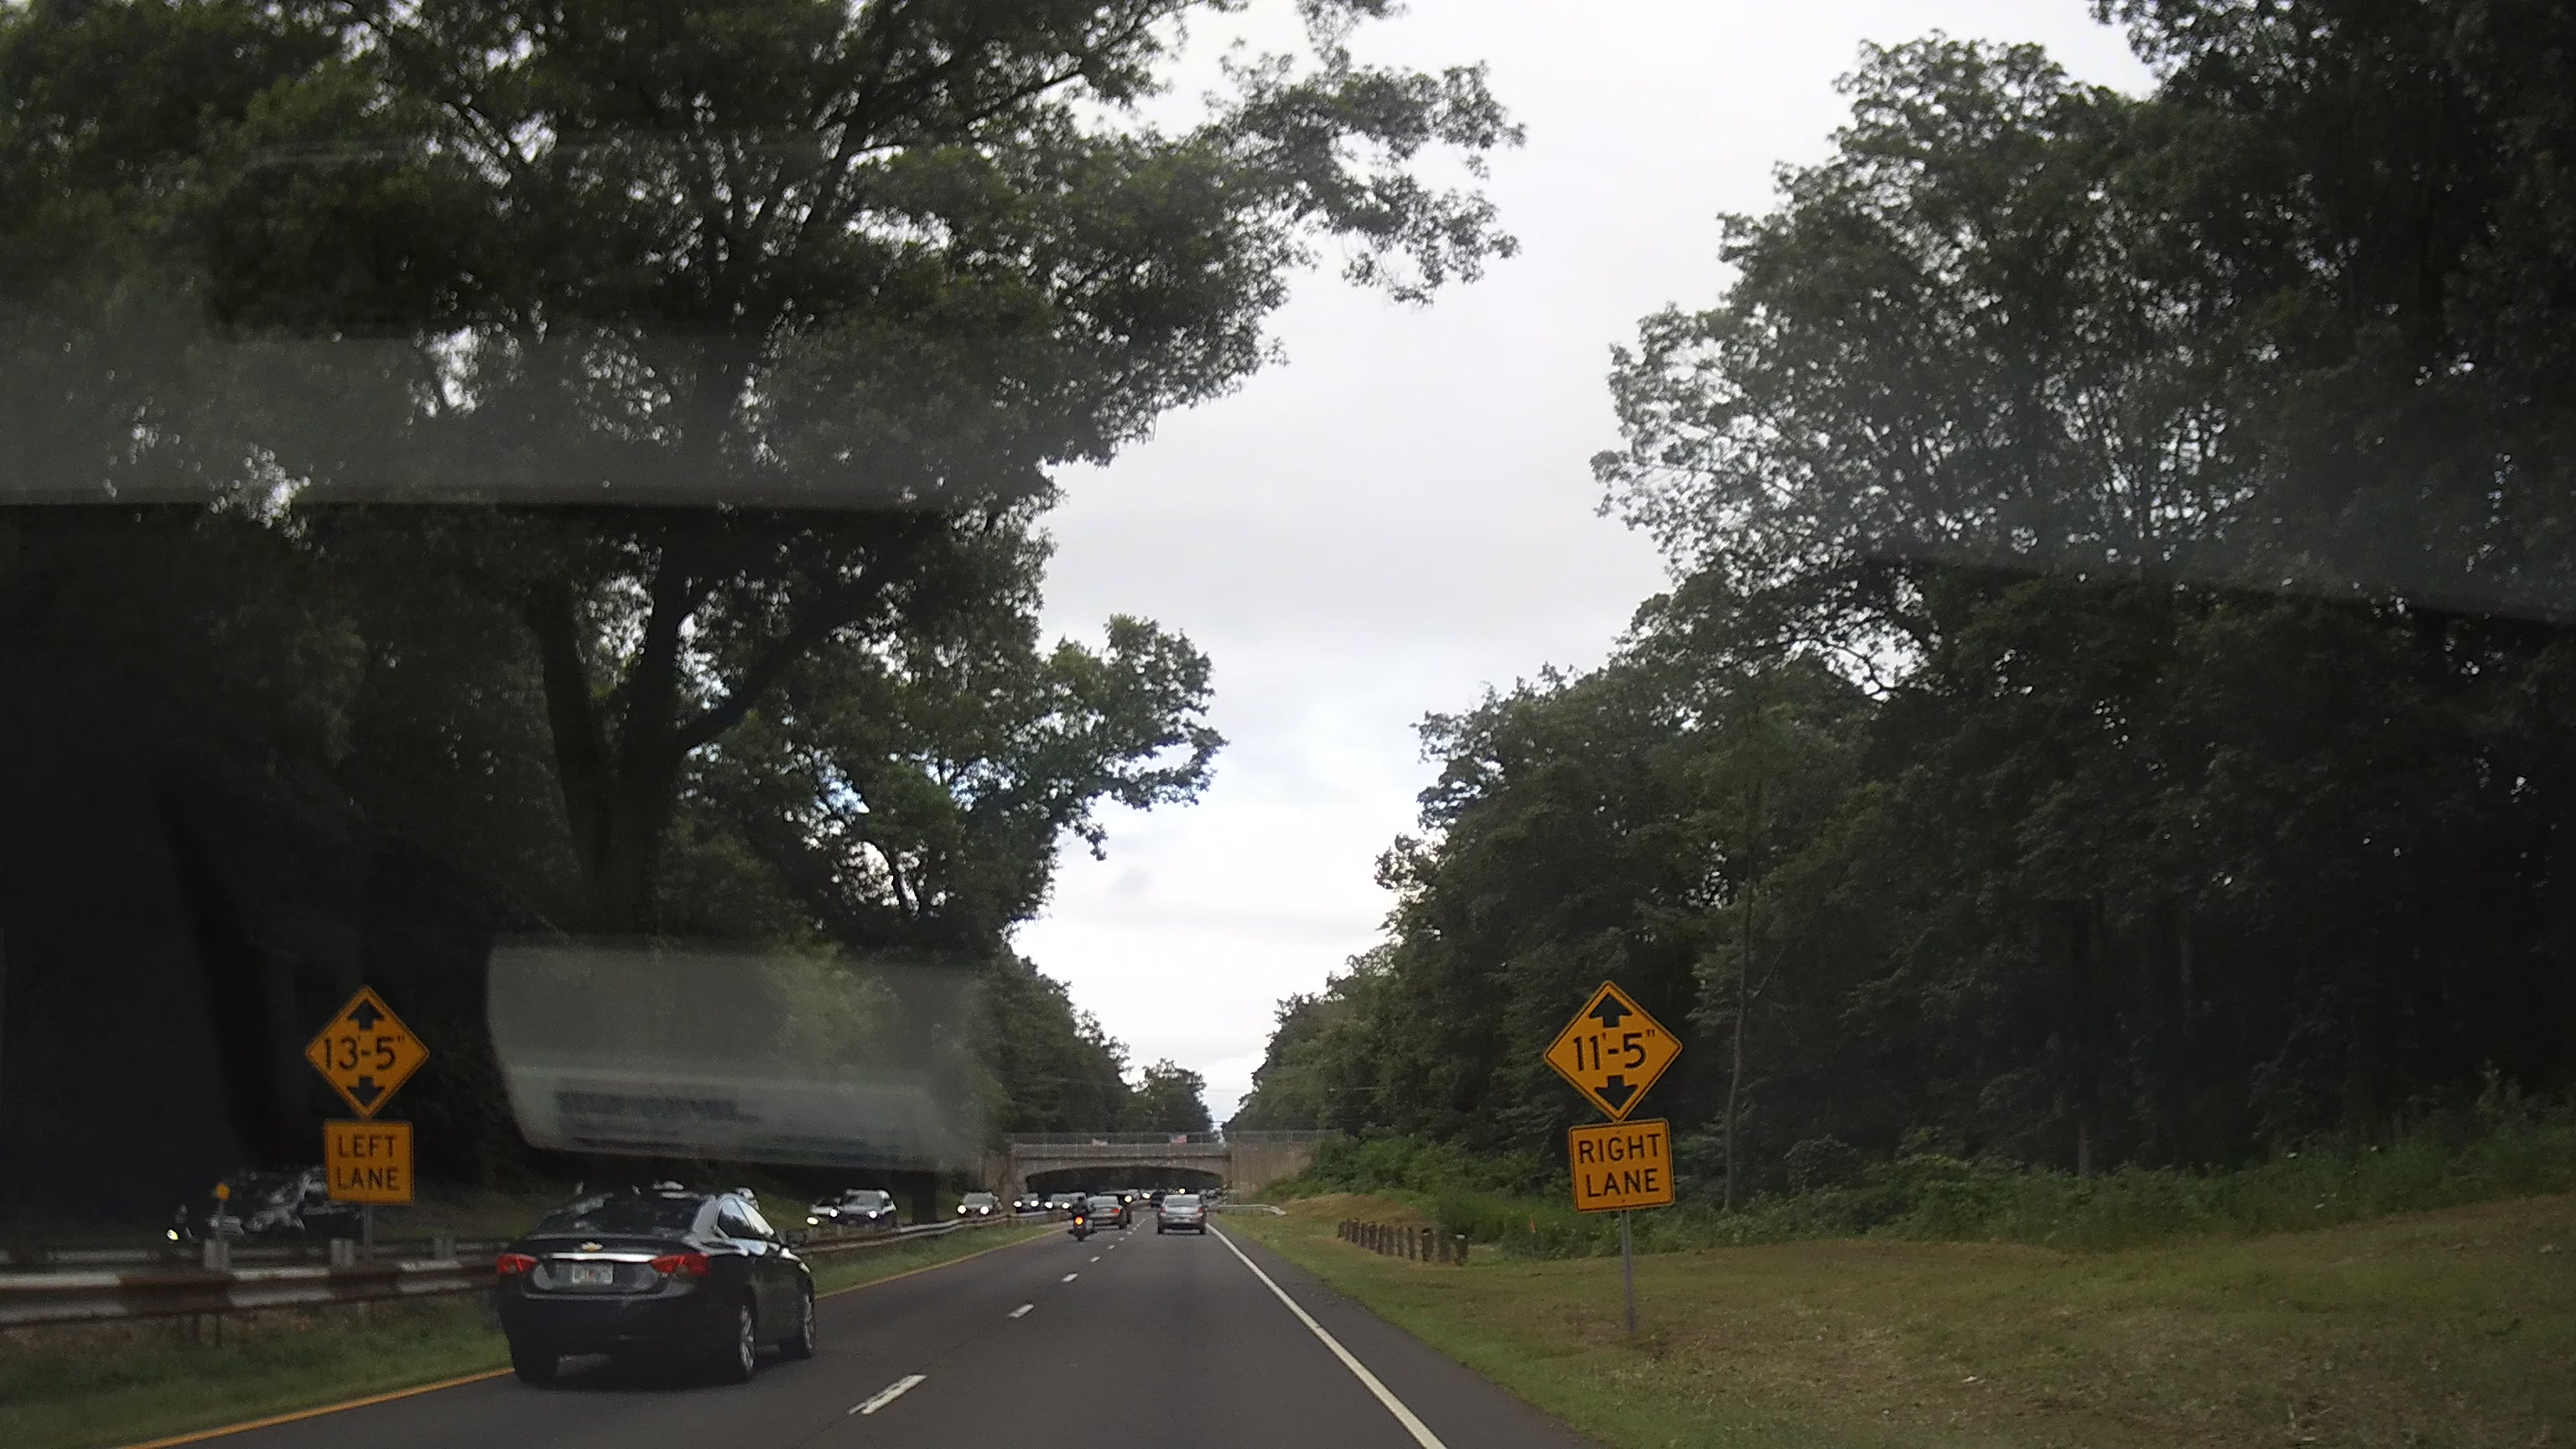low-clearance-sign: (1543, 980, 1683, 1123), (304, 982, 432, 1122)
